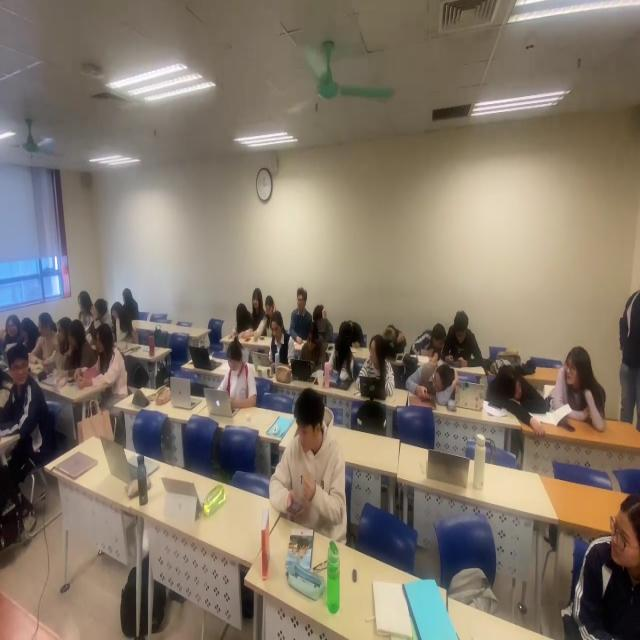raise_hand: (105, 297, 138, 355), (89, 290, 116, 344), (310, 302, 335, 350)
raise_head: (289, 284, 315, 350), (2, 312, 26, 358)
sleep: (487, 353, 552, 447), (404, 353, 459, 411), (408, 321, 450, 365), (377, 321, 409, 361), (336, 316, 368, 354)
stand: (614, 279, 640, 436)
using_computer: (250, 309, 297, 377), (291, 321, 330, 388)
using_phone: (265, 382, 357, 551), (202, 333, 261, 419), (442, 309, 487, 371)
